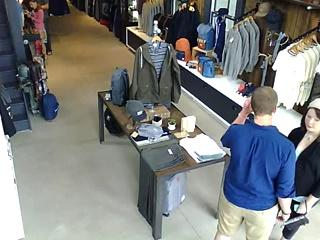Normal: (214, 86, 296, 240), (281, 98, 320, 240), (36, 0, 53, 56)
